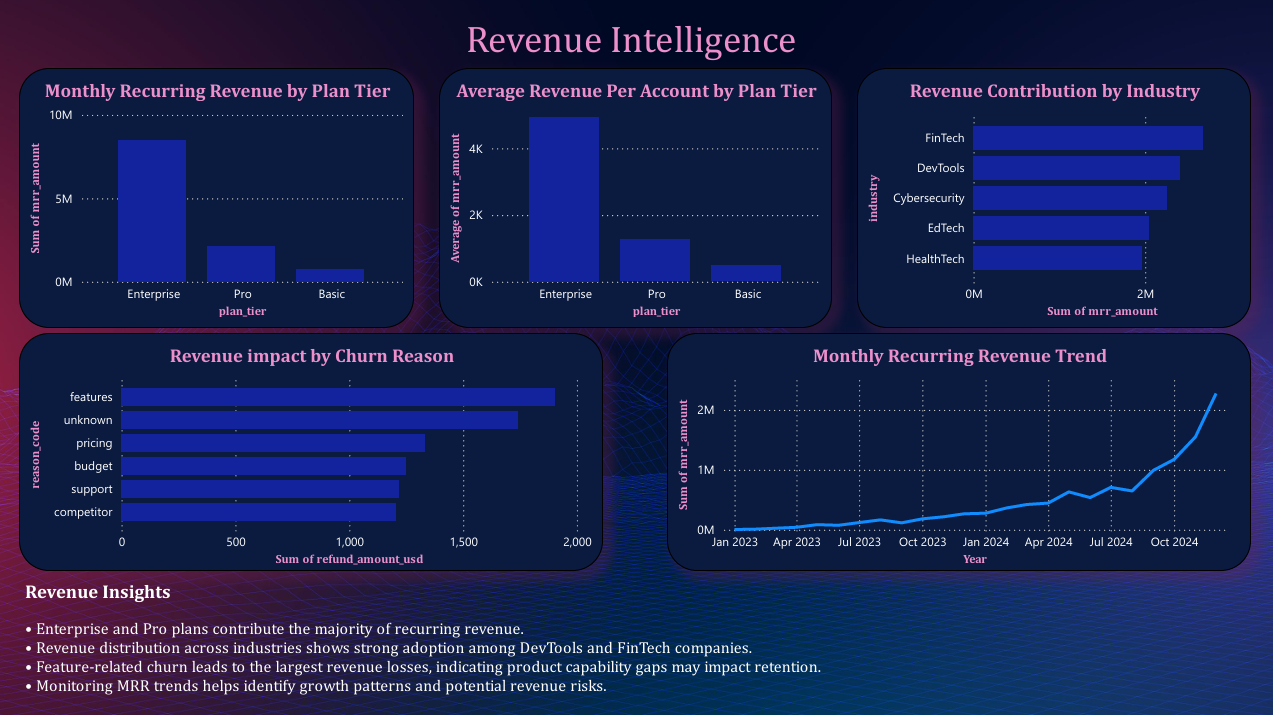

The dashboard page shown, as its layout file describes it:
{"tool":"powerbi","page":{"name":"Revenue Intelligence","canvas":[1280,720],"ordinal":2},"visuals":[{"type":"clusteredColumnChart","title":"Monthly Recurring Revenue by Plan Tier","fields":{"Category":["ravenstack_analytics subscriptions.plan_tier"],"Y":["Sum(ravenstack_analytics subscriptions.mrr_amount)"]},"box":[22.3,70,394.3,260.3],"z":0},{"type":"clusteredColumnChart","title":"Average Revenue Per Account by Plan Tier","fields":{"Category":["ravenstack_analytics subscriptions.plan_tier"],"Y":["Avg(ravenstack_analytics subscriptions.mrr_amount)"]},"box":[441.7,70,393,260.3],"z":1000},{"type":"barChart","title":"Revenue Contribution by Industry","fields":{"Category":["ravenstack_analytics accounts.industry"],"Y":["Sum(ravenstack_analytics subscriptions.mrr_amount)"]},"box":[859.6,70,394.3,260.3],"z":2000},{"type":"barChart","title":"Revenue impact by Churn Reason","fields":{"Category":["ravenstack_analytics churn_events.reason_code"],"Y":["Sum(ravenstack_analytics churn_events.refund_amount_usd)"]},"box":[22.3,335.5,583.6,237.9],"z":3000},{"type":"lineChart","title":"Monthly Recurring Revenue  Trend","fields":{"Y":["Sum(ravenstack_analytics subscriptions.mrr_amount)"],"Category":["ravenstack_analytics subscriptions.start_date.Variation.Date Hierarchy.Year","ravenstack_analytics subscriptions.start_date.Variation.Date Hierarchy.Month"]},"box":[670.4,335.5,583.6,237.9],"z":4000},{"type":"textbox","box":[23.3,576.7,1230.7,135],"z":5000},{"type":"textbox","box":[24.1,13.9,1219.5,58.3],"z":6000}]}

Visuals, with their boxes in screenshot pixels (x1, y1, x2, y2), scaled from the page's 1280x720 canvas onto the 1273x715 screenshot:
"Monthly Recurring Revenue by Plan Tier" clusteredColumnChart: l=22, t=70, r=414, b=328
"Average Revenue Per Account by Plan Tier" clusteredColumnChart: l=439, t=70, r=830, b=328
"Revenue Contribution by Industry" barChart: l=855, t=70, r=1247, b=328
"Revenue impact by Churn Reason" barChart: l=22, t=333, r=603, b=569
"Monthly Recurring Revenue  Trend" lineChart: l=667, t=333, r=1247, b=569
textbox: l=23, t=573, r=1247, b=707
textbox: l=24, t=14, r=1237, b=72
